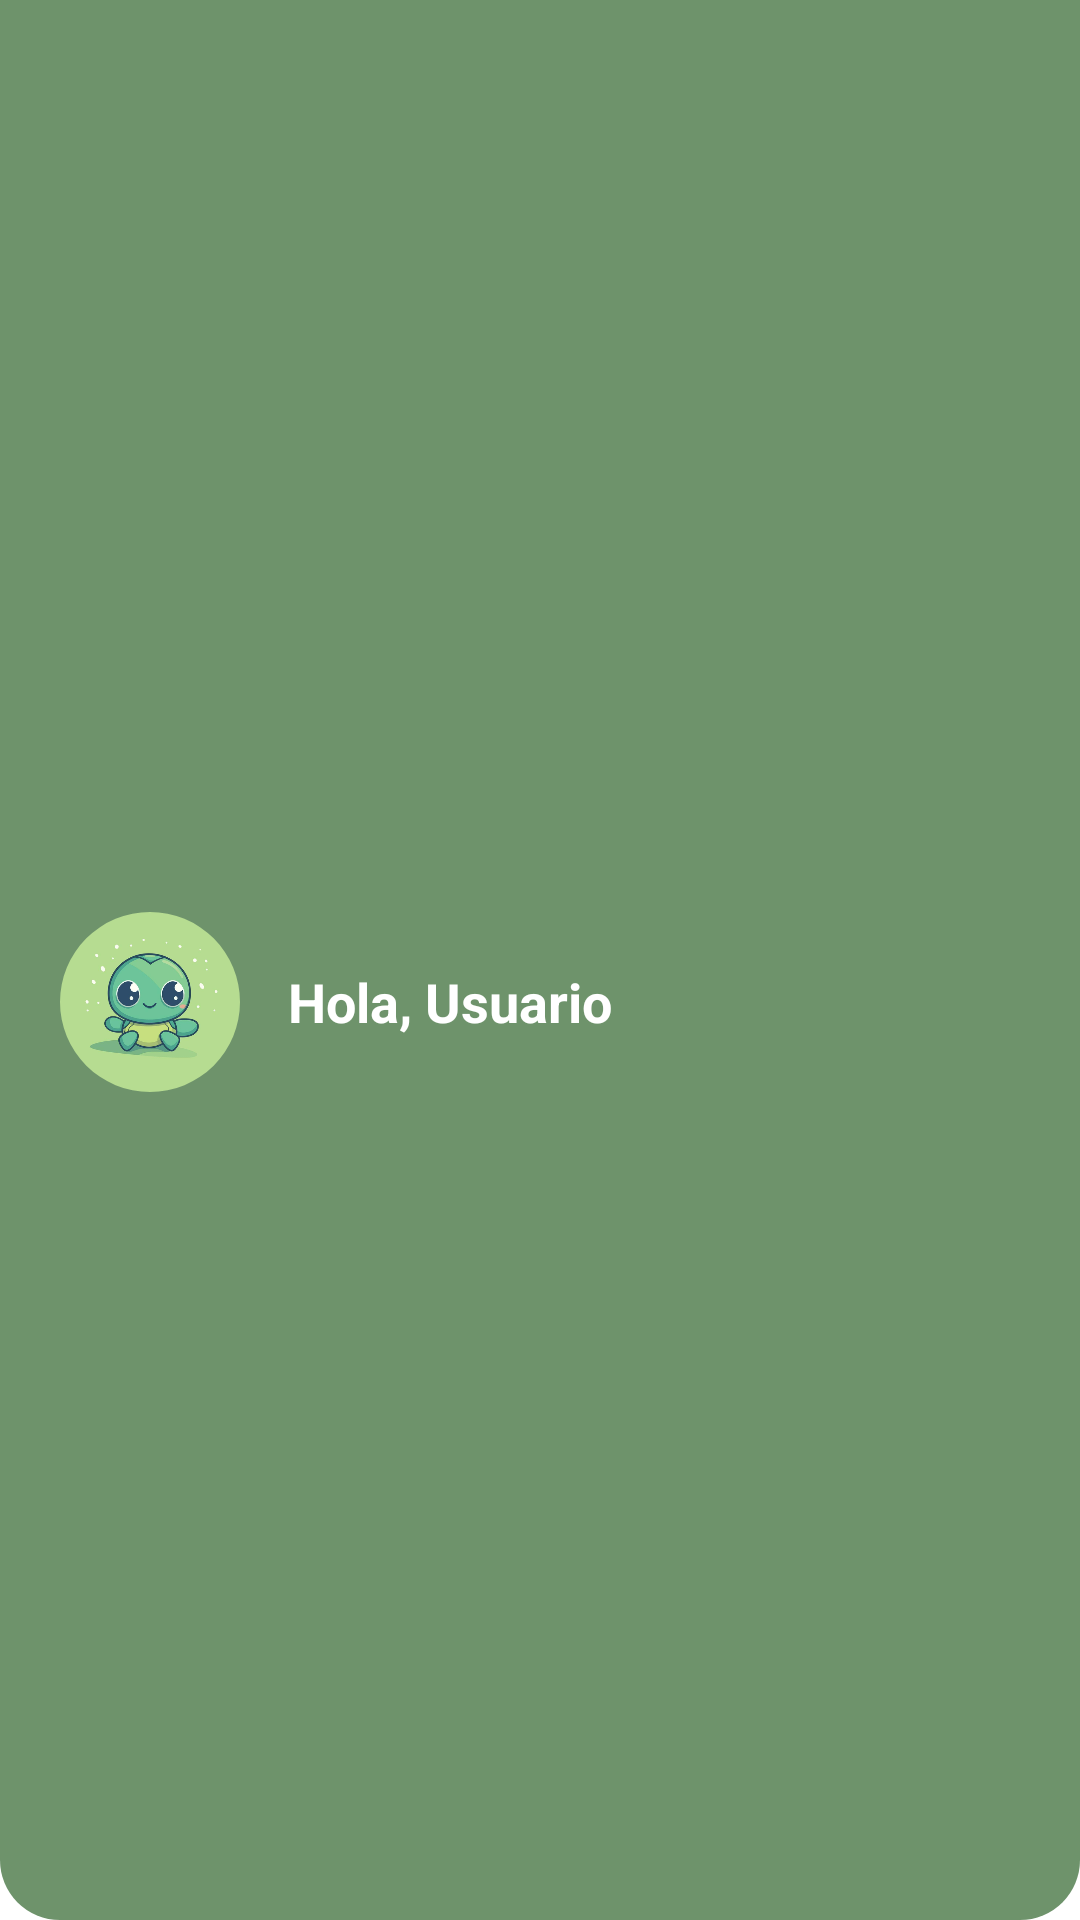

Point at icon controls on the screen. Image size 1080w x 1920h, points as point (x, y).
Tortuga, la mascota de la app: point (150, 1002)
